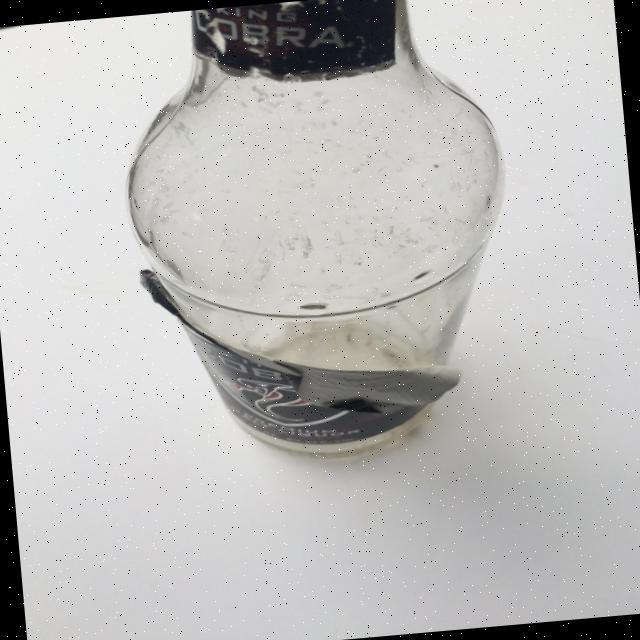glass: (108, 0, 528, 475)
